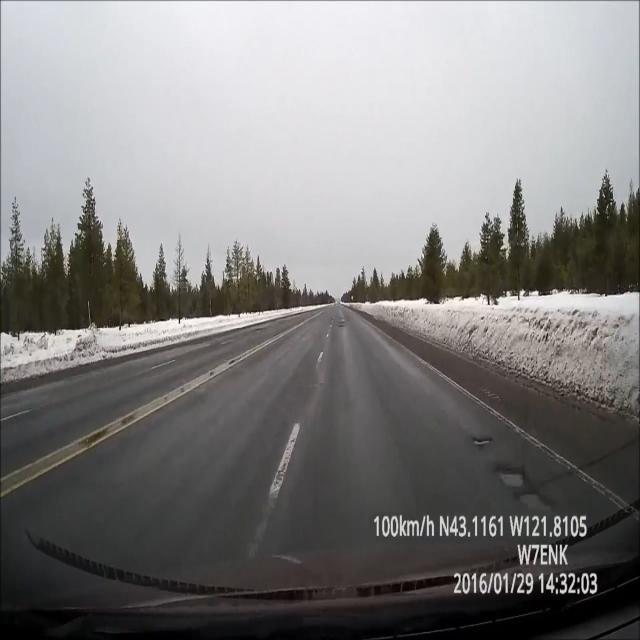Buraco: (511, 488, 558, 514), (490, 464, 532, 489), (469, 436, 494, 447)
